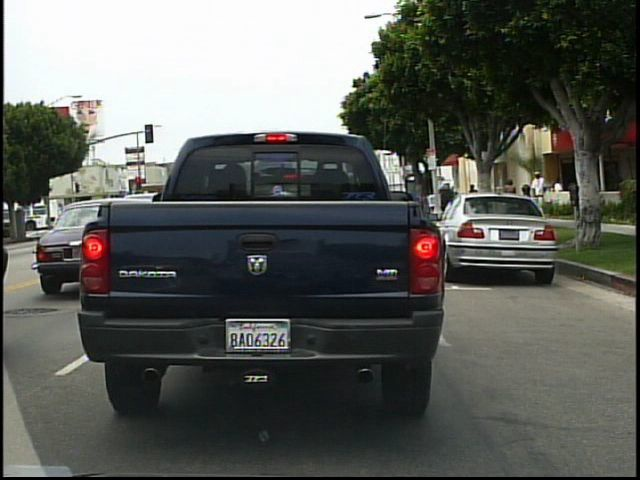person: (526, 164, 551, 214), (550, 174, 570, 221), (501, 175, 519, 219), (465, 180, 484, 218)
